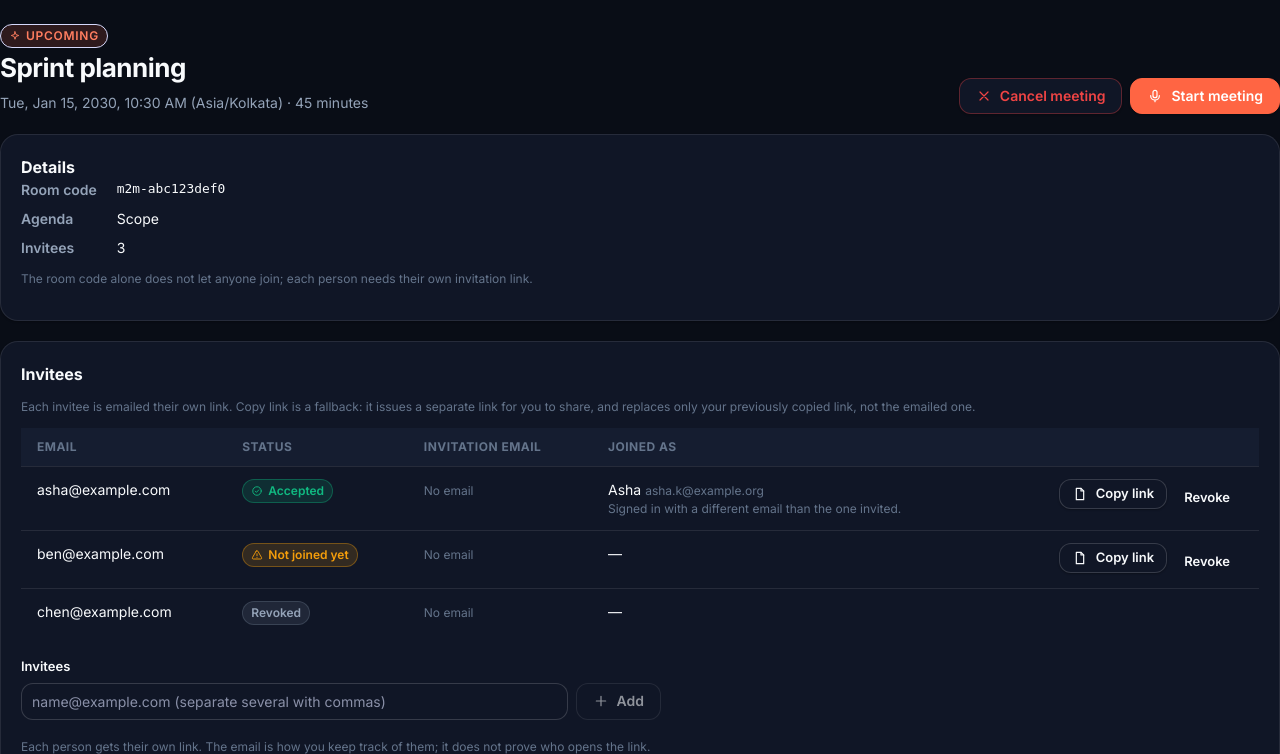
Test: Scheduled meeting page › shows each invitee's status and re-issues a link on copy
Expected: the text "Signed in with a different email than the one invited." is shown, [608,501,901,516]
Expected: the text "Copy link is a fallback" is shown, [21,399,976,414]
Step 1. Click the button "Copy link" in the row of "ben@example.com" → (1113, 558), box [1059,543,1167,573]
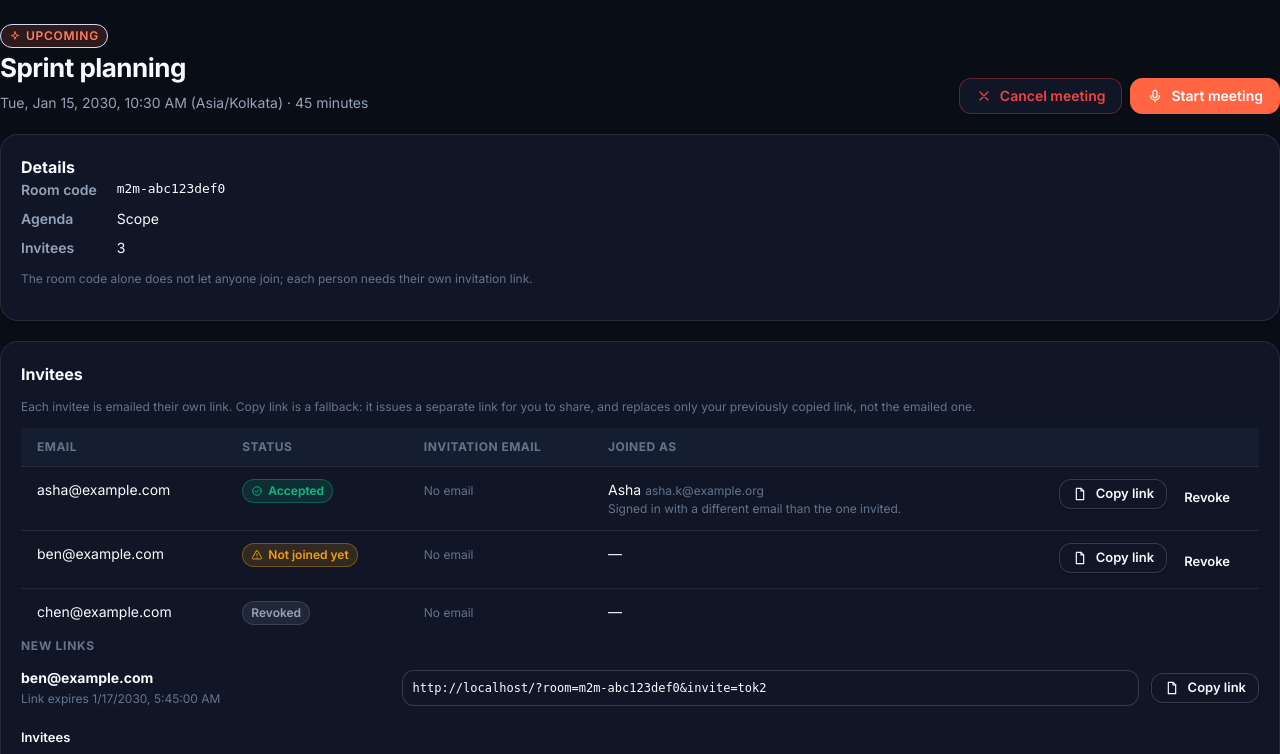
Now the field named "Invitation link for ben@example.com" is shown, box [402,670,1138,706]
